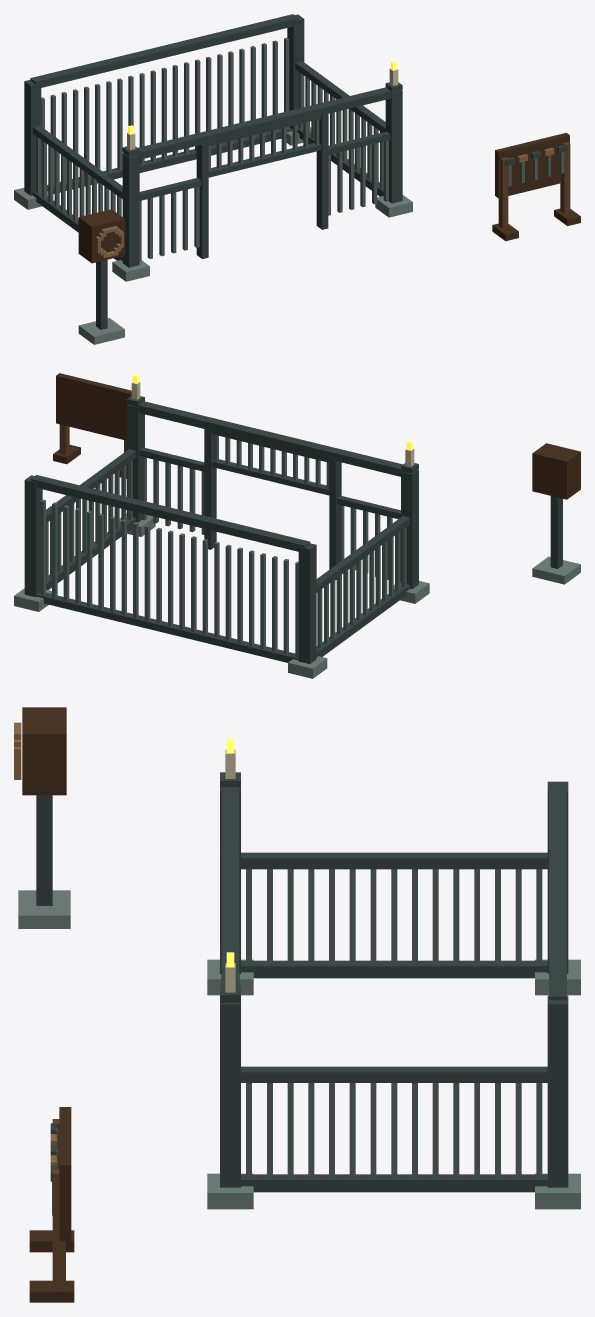
The model's file is B41_cage.glb.
3 renders of one model, top to bottom at view 1: azimuth 30°, elevation 25°; view 2: azimuth 150°, elevation 25°; view 3: azimuth 270°, elevation 25°, orthographic. The views are drawn at different scales.
Visible parts, largest first — view 1: B41_cage__main_station_CageBackBars_edge, B41_cage__main_station_CageTopBeam_iron, B41_cage__main_station_CageCorner_iron, B41_cage__main_station_CageSideBars_edge, B41_cage__main_station_CageFrontBars_edge, B41_cage__main_station_GateTrack_iron, B41_cage__equipment_ToolBoard_wooddark, B41_cage__main_station_CageSideTop_iron, B41_cage__broadcast_SpeakerHousing_wooddark, B41_cage__main_station_CageFoot_stone, B41_cage__main_station_RaisedGateBars_edge, B41_cage__main_station_RaisedGateRail_iron (+9 smaller); view 2: B41_cage__main_station_CageBackBars_edge, B41_cage__main_station_CageSideBars_edge, B41_cage__main_station_CageCorner_iron, B41_cage__main_station_CageTopBeam_iron, B41_cage__equipment_ToolBoard_wooddark, B41_cage__main_station_CageFrontBars_edge, B41_cage__main_station_CageBackBase_iron, B41_cage__main_station_GateTrack_iron, B41_cage__broadcast_SpeakerHousing_wooddark, B41_cage__main_station_CageSideTop_iron, B41_cage__main_station_CageSideBase_iron, B41_cage__main_station_CageFoot_stone (+5 smaller); view 3: B41_cage__main_station_CageSideBars_edge, B41_cage__main_station_CageSideTop_iron, B41_cage__main_station_CageSideBase_iron, B41_cage__main_station_CageCorner_iron, B41_cage__main_station_CageTopBeam_iron, B41_cage__main_station_CageFoot_stone, B41_cage__broadcast_SpeakerHousing_wooddark, B41_cage__broadcast_SpeakerStand_iron, B41_cage__broadcast_SpeakerBase_stone, B41_cage__equipment_ToolBoard_wooddark, B41_cage__equipment_ToolFoot_wooddark, B41_cage__equipment_ToolStand_wood.
Part boxes in pixels (x1,y1,x2,y2): B41_cage__main_station_CageBackBars_edge: [41, 37, 289, 189]; B41_cage__main_station_CageTopBeam_iron: [30, 14, 396, 159]; B41_cage__main_station_CageCorner_iron: [24, 14, 402, 267]; B41_cage__main_station_CageSideBars_edge: [36, 72, 383, 220]; B41_cage__main_station_CageFrontBars_edge: [139, 140, 388, 261]; B41_cage__main_station_GateTrack_iron: [196, 111, 328, 258]; B41_cage__equipment_ToolBoard_wooddark: [495, 132, 569, 198]; B41_cage__main_station_CageSideTop_iron: [32, 61, 385, 198]; B41_cage__broadcast_SpeakerHousing_wooddark: [78, 209, 125, 263]; B41_cage__main_station_CageFoot_stone: [14, 127, 412, 281]; B41_cage__main_station_RaisedGateBars_edge: [208, 119, 319, 171]; B41_cage__main_station_RaisedGateRail_iron: [208, 115, 321, 177]; B41_cage__main_station_CageBackBars_edge: [40, 499, 298, 657]; B41_cage__main_station_CageSideBars_edge: [46, 460, 406, 648]; B41_cage__main_station_CageCorner_iron: [24, 404, 418, 663]; B41_cage__main_station_CageTopBeam_iron: [31, 401, 406, 551]; B41_cage__equipment_ToolBoard_wooddark: [56, 373, 131, 440]; B41_cage__main_station_CageFrontBars_edge: [141, 456, 400, 582]; B41_cage__main_station_CageBackBase_iron: [37, 592, 298, 662]; B41_cage__main_station_GateTrack_iron: [204, 426, 341, 580]; B41_cage__broadcast_SpeakerHousing_wooddark: [532, 443, 580, 499]; B41_cage__main_station_CageSideTop_iron: [46, 449, 410, 592]; B41_cage__main_station_CageSideBase_iron: [46, 517, 410, 656]; B41_cage__main_station_CageFoot_stone: [14, 513, 429, 678]; B41_cage__main_station_CageSideBars_edge: [246, 869, 542, 1178]; B41_cage__main_station_CageSideTop_iron: [241, 852, 547, 1082]; B41_cage__main_station_CageSideBase_iron: [241, 960, 547, 1192]; B41_cage__main_station_CageCorner_iron: [220, 781, 568, 1187]; B41_cage__main_station_CageTopBeam_iron: [221, 782, 566, 999]; B41_cage__main_station_CageFoot_stone: [207, 959, 580, 1209]; B41_cage__broadcast_SpeakerHousing_wooddark: [22, 707, 66, 795]; B41_cage__broadcast_SpeakerStand_iron: [36, 795, 52, 905]; B41_cage__broadcast_SpeakerBase_stone: [18, 890, 70, 928]; B41_cage__equipment_ToolBoard_wooddark: [59, 1107, 71, 1241]; B41_cage__equipment_ToolFoot_wooddark: [29, 1230, 74, 1302]; B41_cage__equipment_ToolStand_wood: [52, 1119, 65, 1288].
Size of the model in its own units: 12.7 by 3.64 by 7.62.
